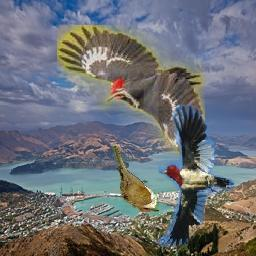Cuckoo: (113, 146, 160, 213)
Woodpecker: (57, 26, 205, 157), (158, 105, 234, 248)
